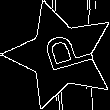P_W: (29, 30, 92, 80)
